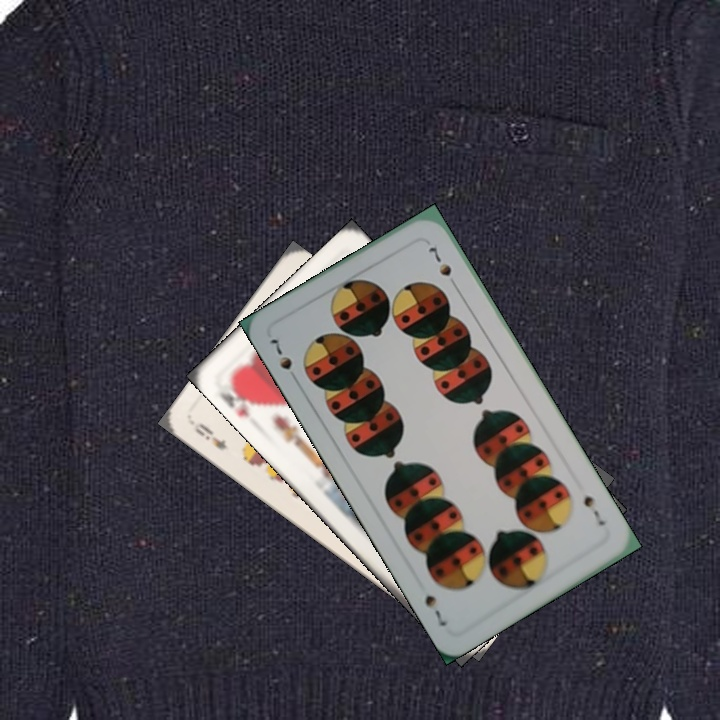E9: (190, 418, 230, 453)
HK: (215, 373, 262, 420)
S7: (264, 334, 301, 386), (579, 489, 608, 528)
